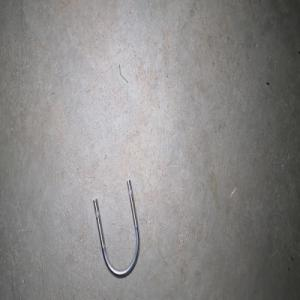ClampPart: (92, 178, 140, 278)
